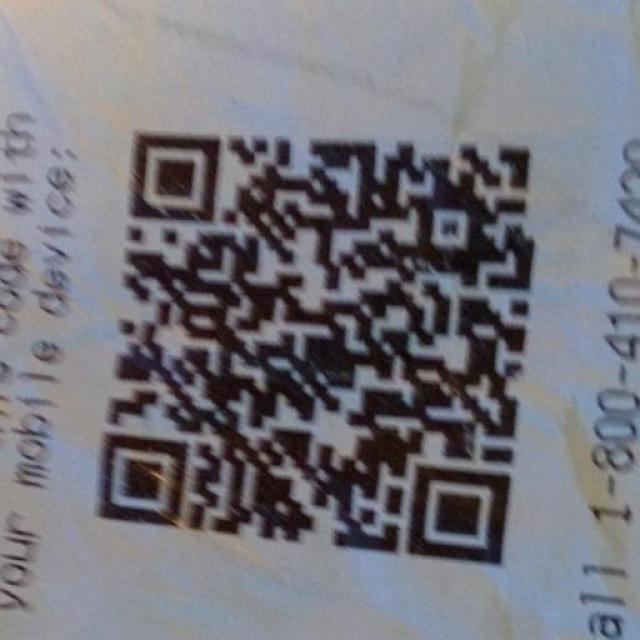QR_CODE: (82, 105, 538, 581)
